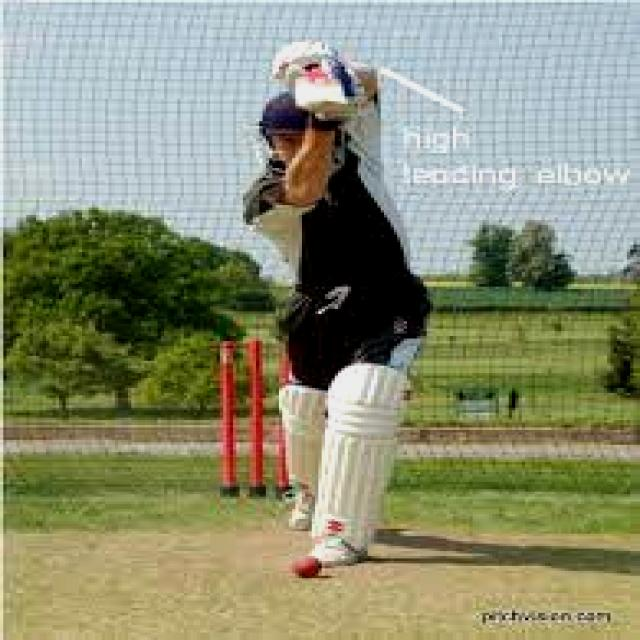toe: (294, 94, 354, 117)
